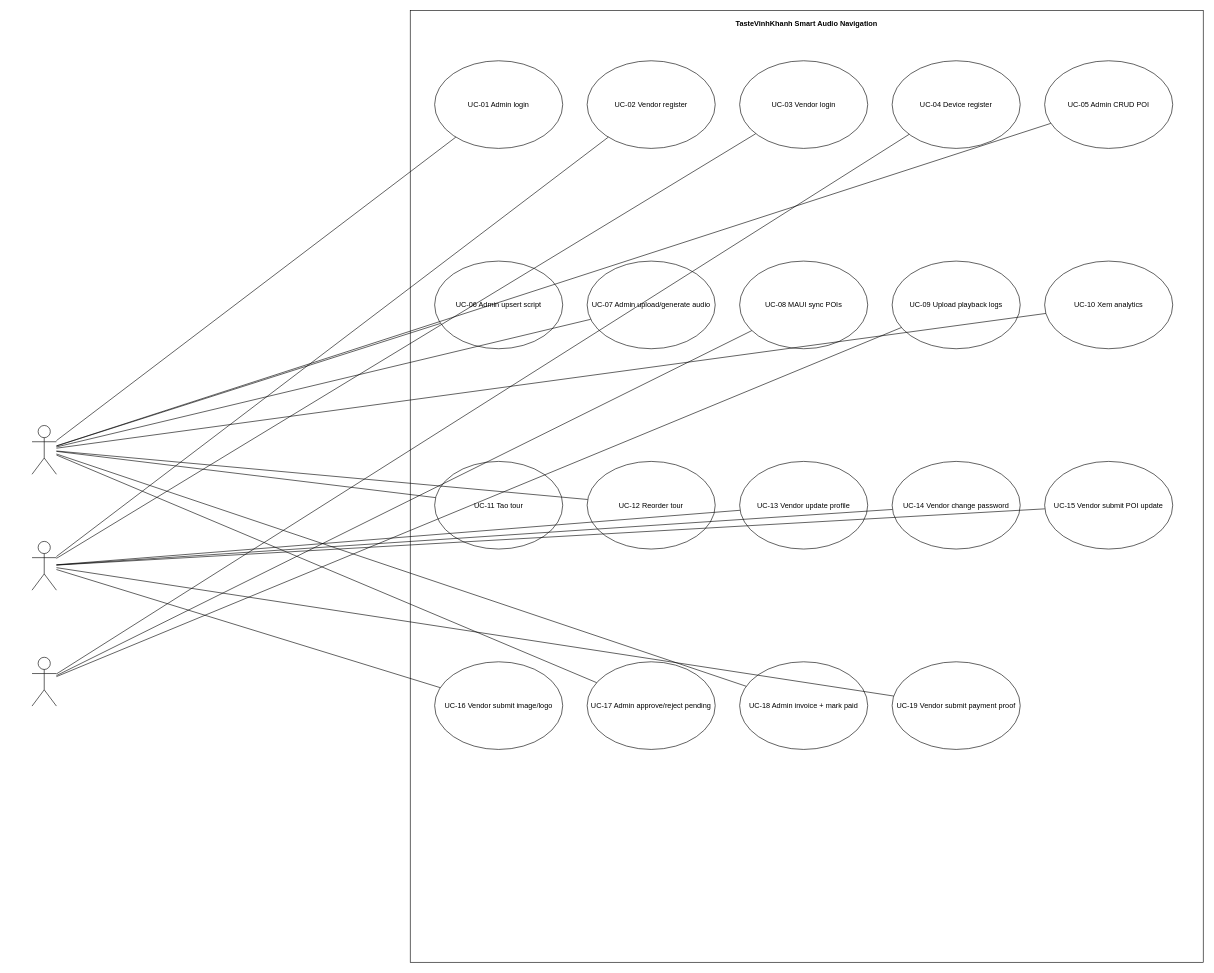
This 1214x973 diagram has some shape labels left out. The centre of each missing label's shape, as x and y in pixels:
"Admin" belongs at (43,449).
"Mobile User / Device" belongs at (43,681).
"Vendor" belongs at (43,565).
